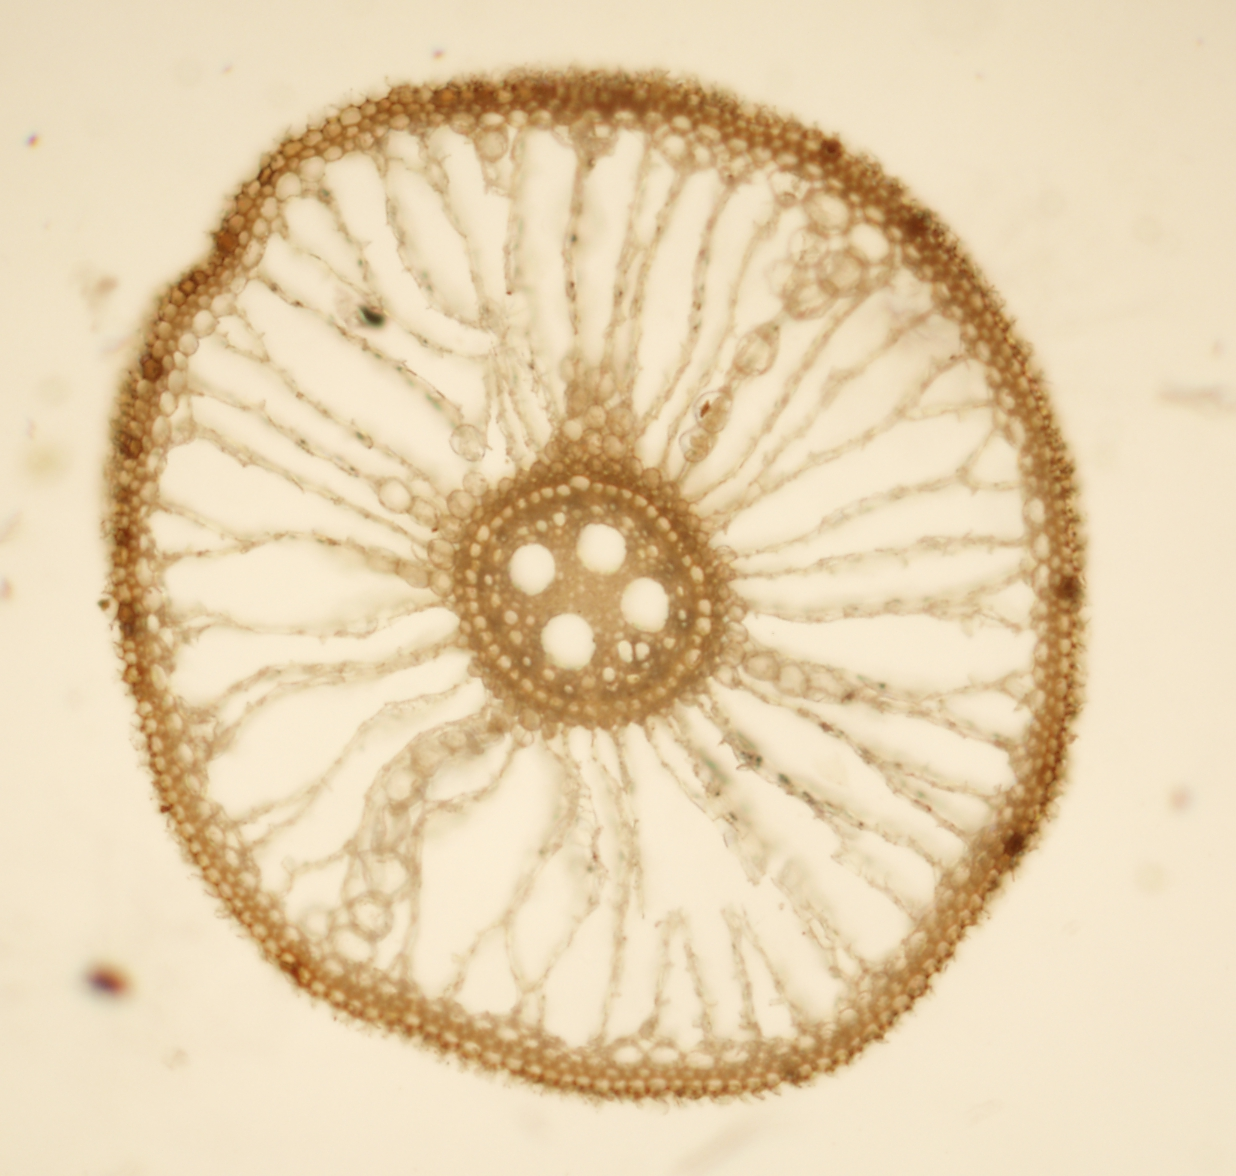lm: (540, 612, 597, 670), (621, 577, 670, 632), (576, 522, 627, 574), (508, 542, 556, 596)
